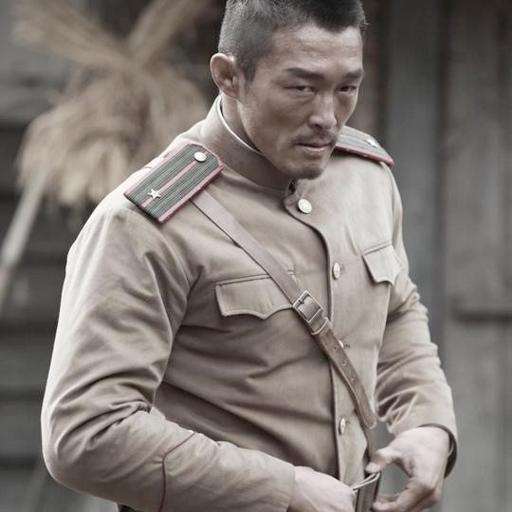north army: (63, 2, 487, 512)
